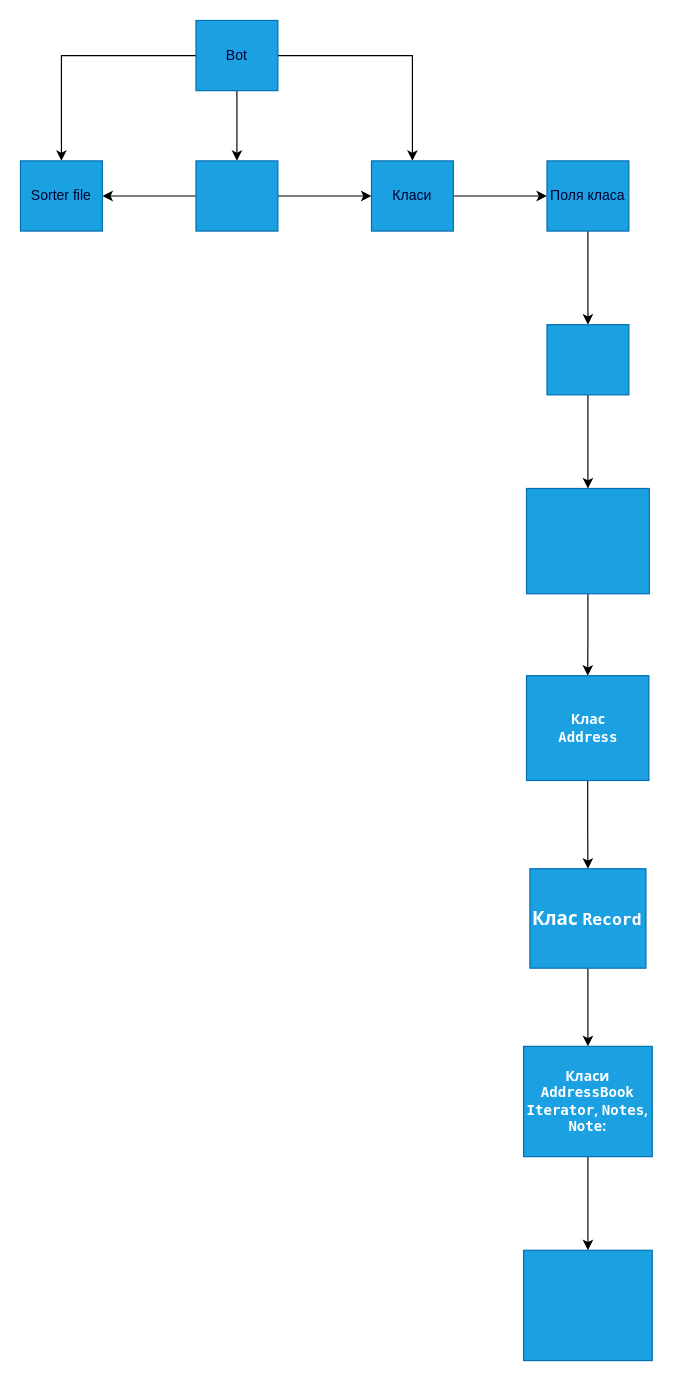
This 673x1382 diagram has some shape labels left out. The box of each missing label's shape, as (x1, y1, x2, y2) in pixels:
Клас Field: (546, 324, 629, 395)
Клас Note and Клас Notes: (522, 1249, 652, 1361)
Класи Name , Phone , Birthday , Email: (525, 487, 649, 594)
Функционал бота: (195, 160, 278, 231)
